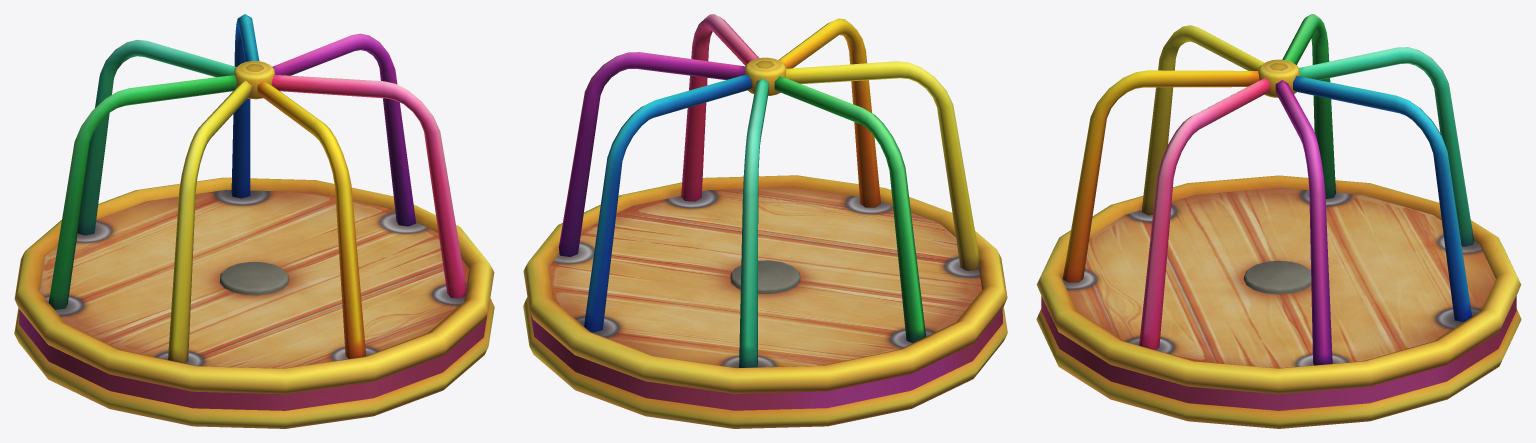
Rendered from SE_Carousel_01_SM.FBX.
3 renders of one model, left to right at view 1: azimuth 30°, elevation 25°; view 2: azimuth 150°, elevation 25°; view 3: azimuth 270°, elevation 25°, orthographic.
Parts seen in each view (by area): view 1: SE_Carousel_01_SM_LOD0; view 2: SE_Carousel_01_SM_LOD0; view 3: SE_Carousel_01_SM_LOD0.
Part boxes in pixels (x1=…): SE_Carousel_01_SM_LOD0: x1=14, y1=14, x2=494, y2=428; SE_Carousel_01_SM_LOD0: x1=523, y1=14, x2=1007, y2=428; SE_Carousel_01_SM_LOD0: x1=1036, y1=14, x2=1521, y2=428.
Size of what is drawn, in the model's own units: 611 by 611 by 386.
